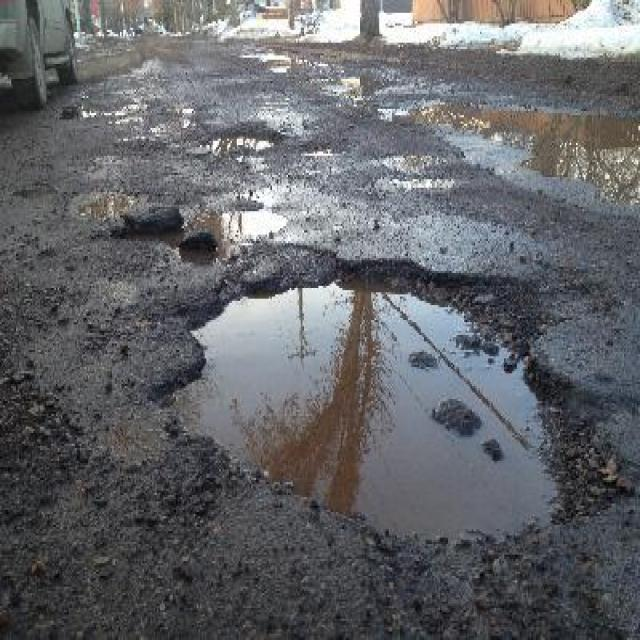pothole: (154, 247, 612, 540), (206, 124, 280, 156), (66, 188, 140, 218), (222, 202, 288, 235)
